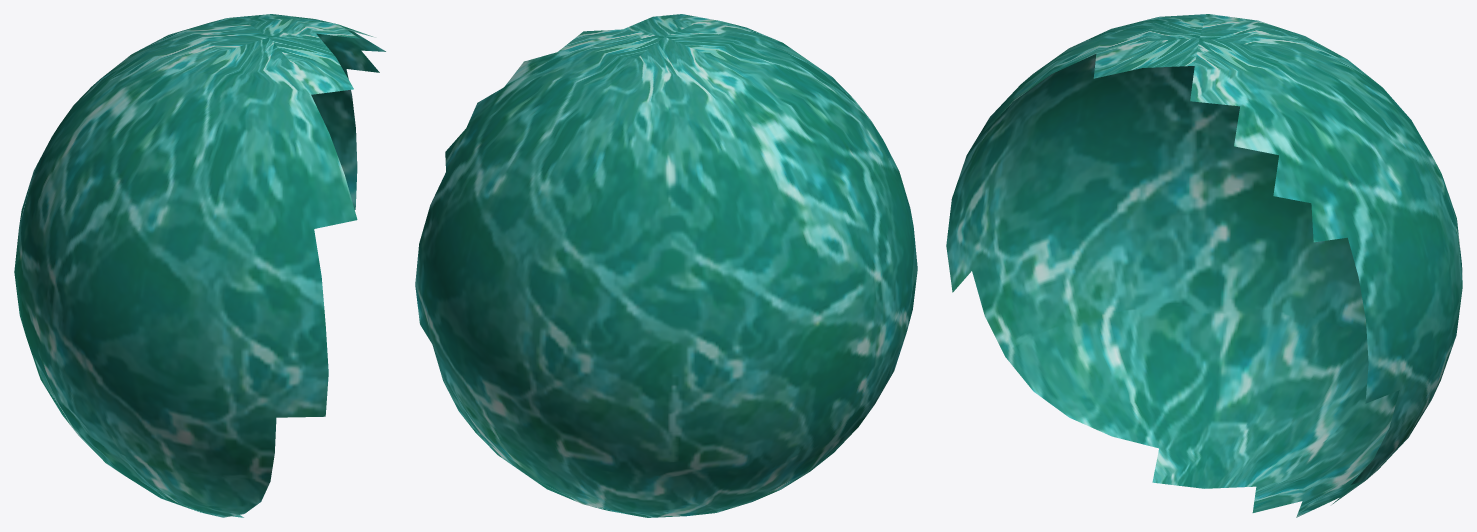
Rendered from boss3_1_1.fbx.
3 views of the same model, side by side, from view 1: azimuth 30°, elevation 25°; view 2: azimuth 150°, elevation 25°; view 3: azimuth 270°, elevation 25° (orthographic). The views are drawn at different scales.
Visible parts, largest first — view 1: boss3_1_1; view 2: boss3_1_1; view 3: boss3_1_1.
Boxes of the visible parts, x1,y1,x2,y2 form: boss3_1_1: (14,14,385,517); boss3_1_1: (415,14,917,517); boss3_1_1: (946,14,1462,517).
Bounding box in the file's own units: 164 × 184 × 182.
